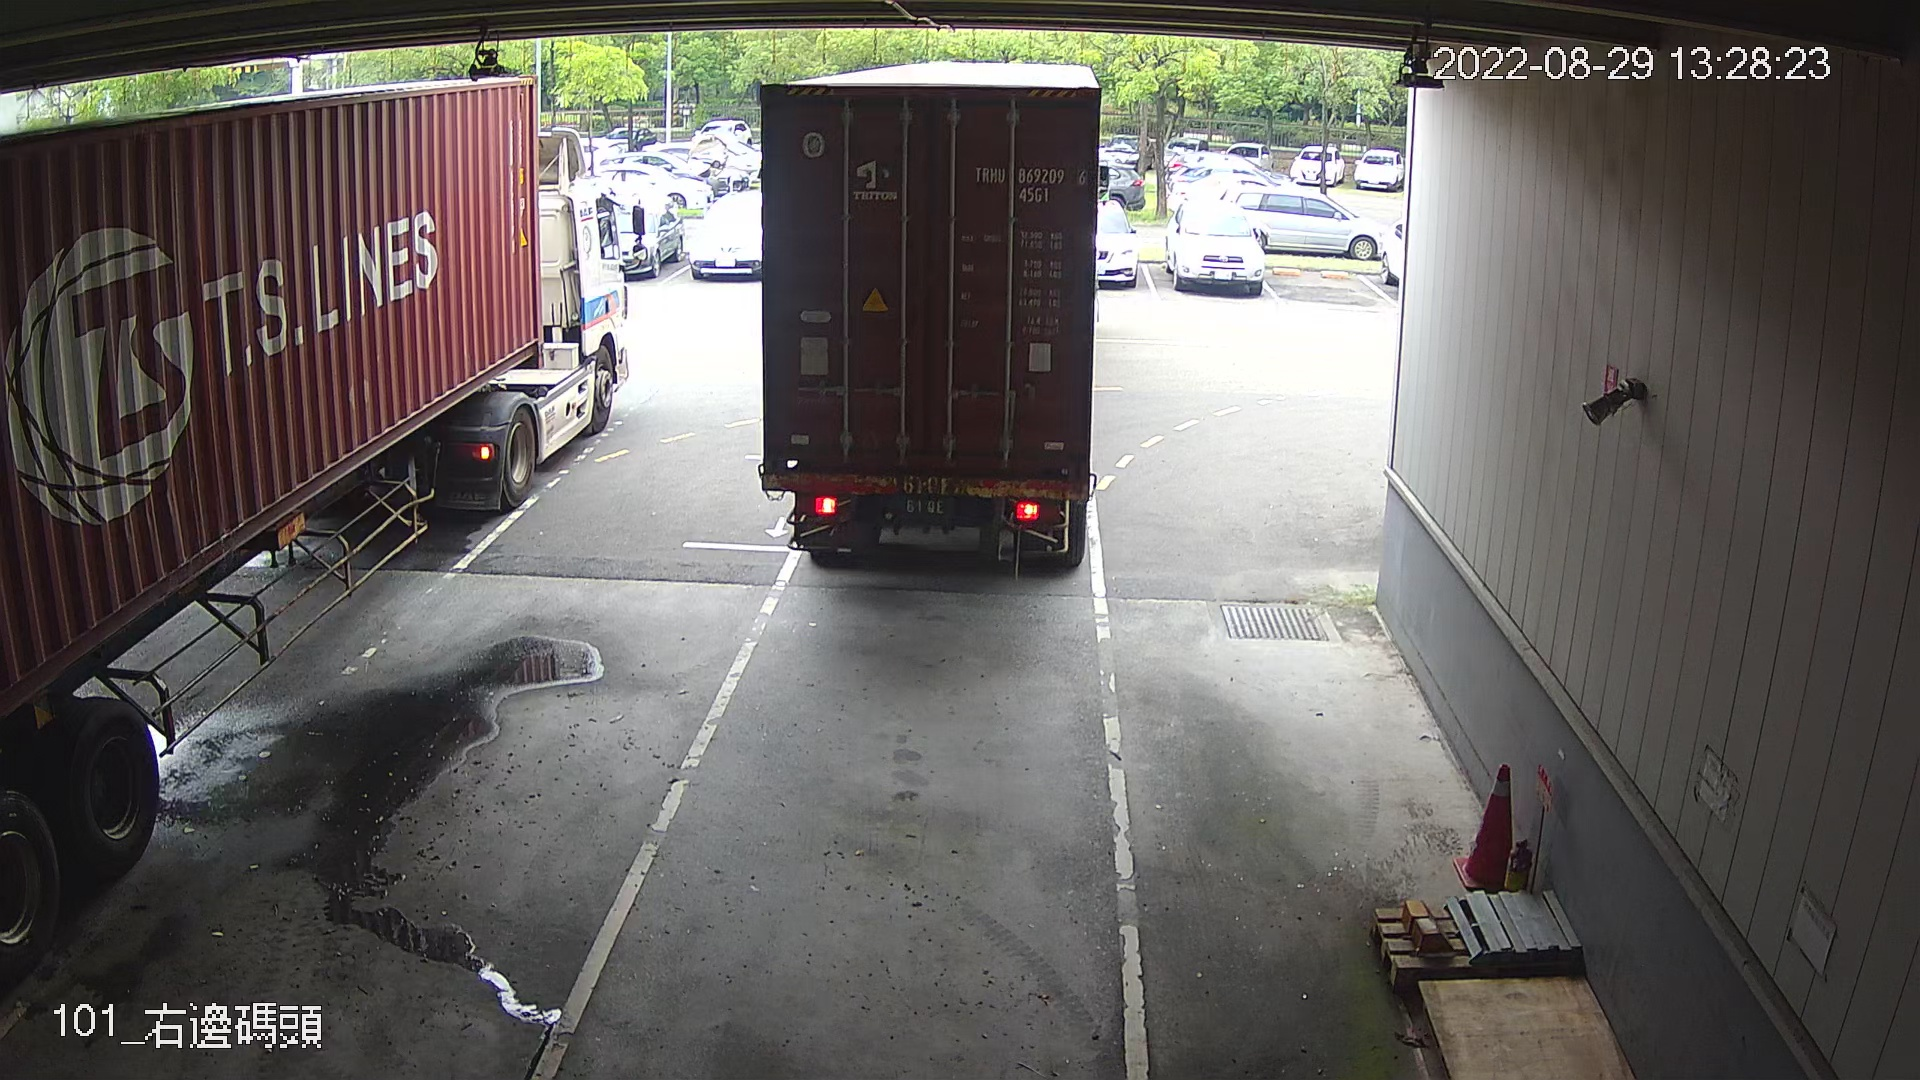container: (969, 158, 1092, 208)
